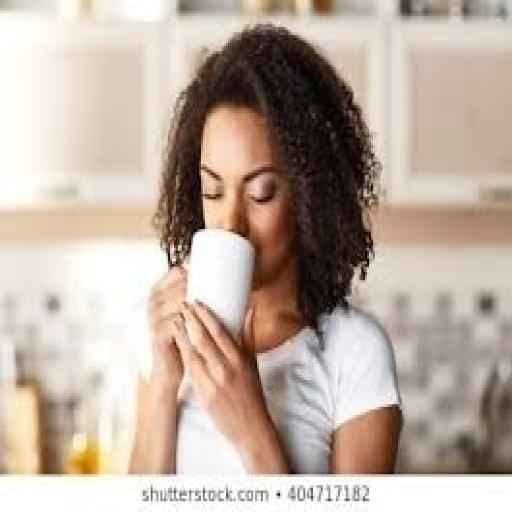drinking: (184, 226, 255, 348)
